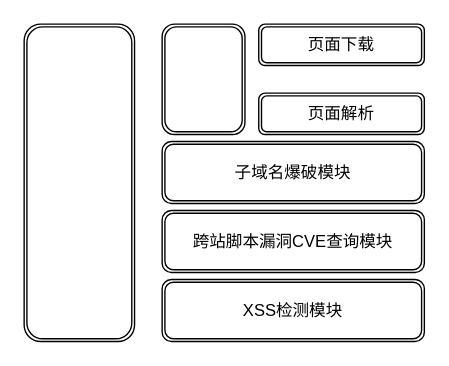
This 449x366 diagram has some shape labels left out. The centre of each missing label's shape, as x and y in pixels:
基于 网络 爬虫 的 XSS 漏洞 检测 系统: (x=79, y=182)
网络 爬虫 模块: (x=203, y=79)
